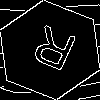R: (25, 25, 80, 81)
